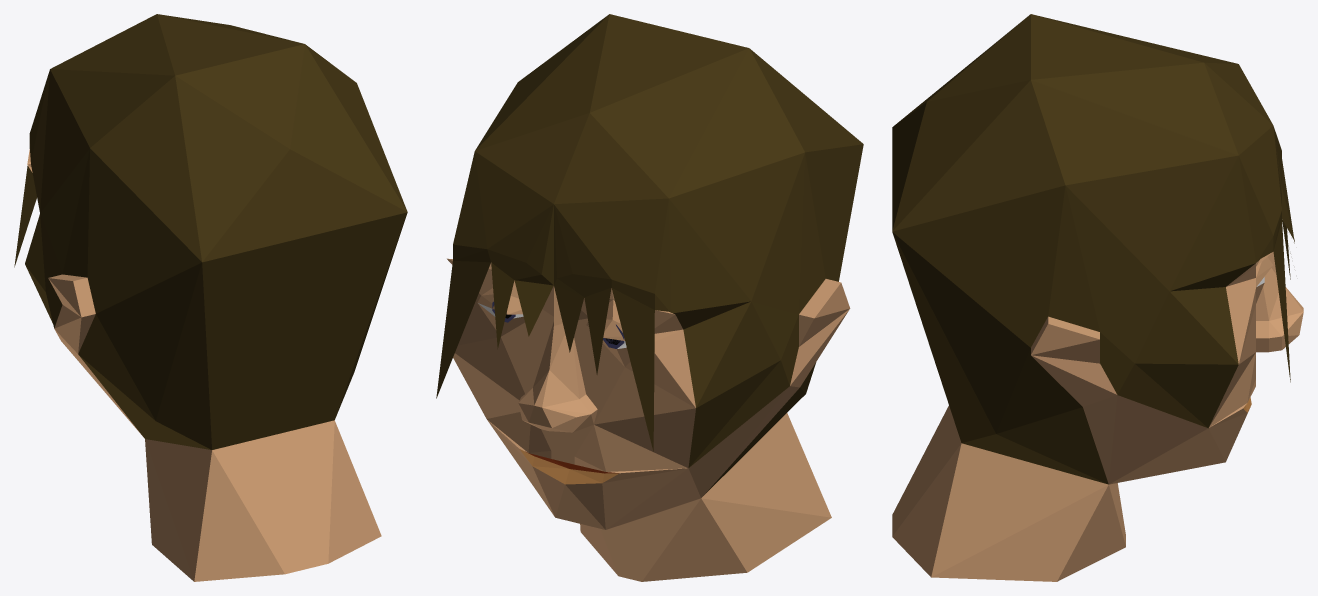
Rendered from npc_chat_zenesha_0.obj.
The picture shows the model from 3 angles, left to right: view 1: azimuth 30°, elevation 25°; view 2: azimuth 150°, elevation 25°; view 3: azimuth 270°, elevation 25°; orthographic projection. The views are drawn at different scales.
Bounding box in the file's own units: 0.6875 × 0.9844 × 0.7422.
